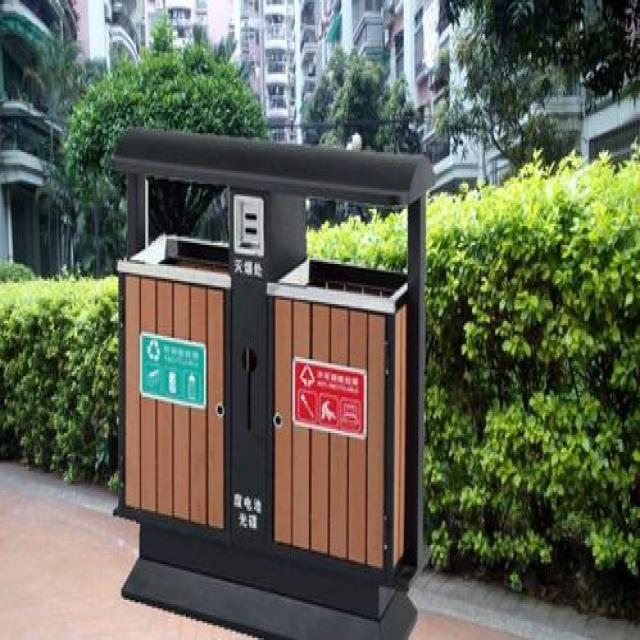garbage_bin: (108, 125, 434, 638)
